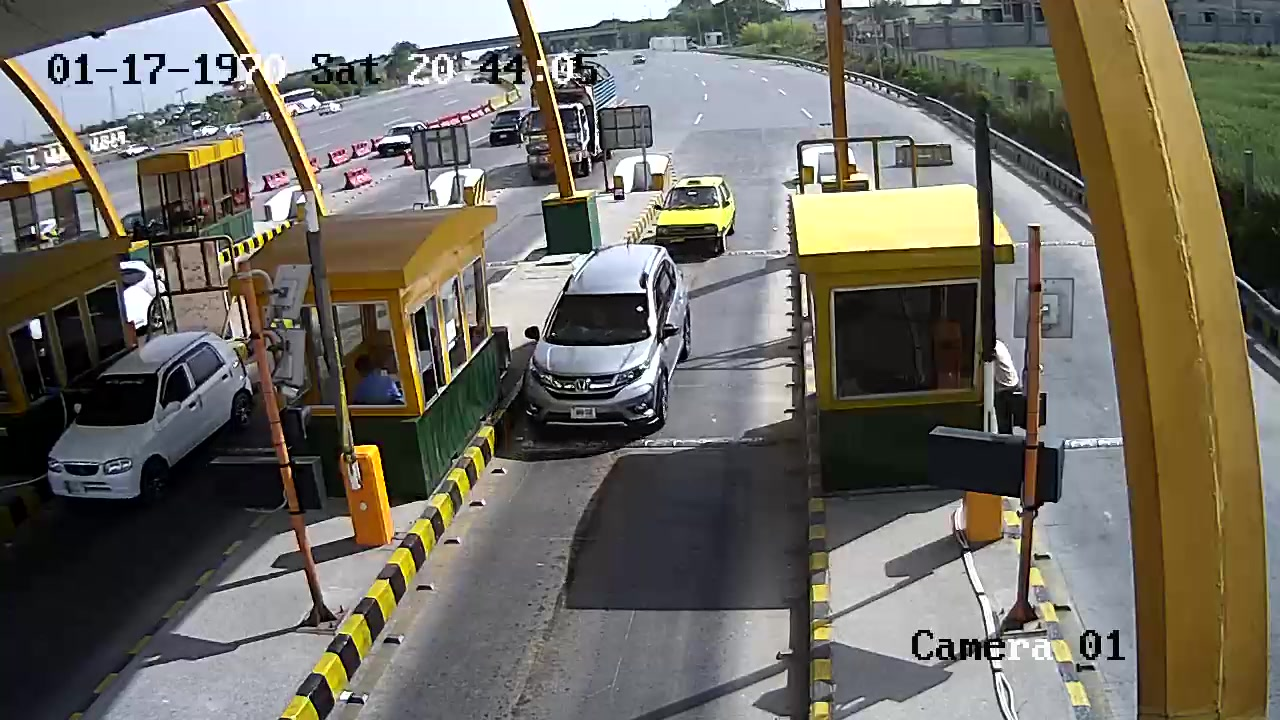F1: (521, 235, 698, 446)
